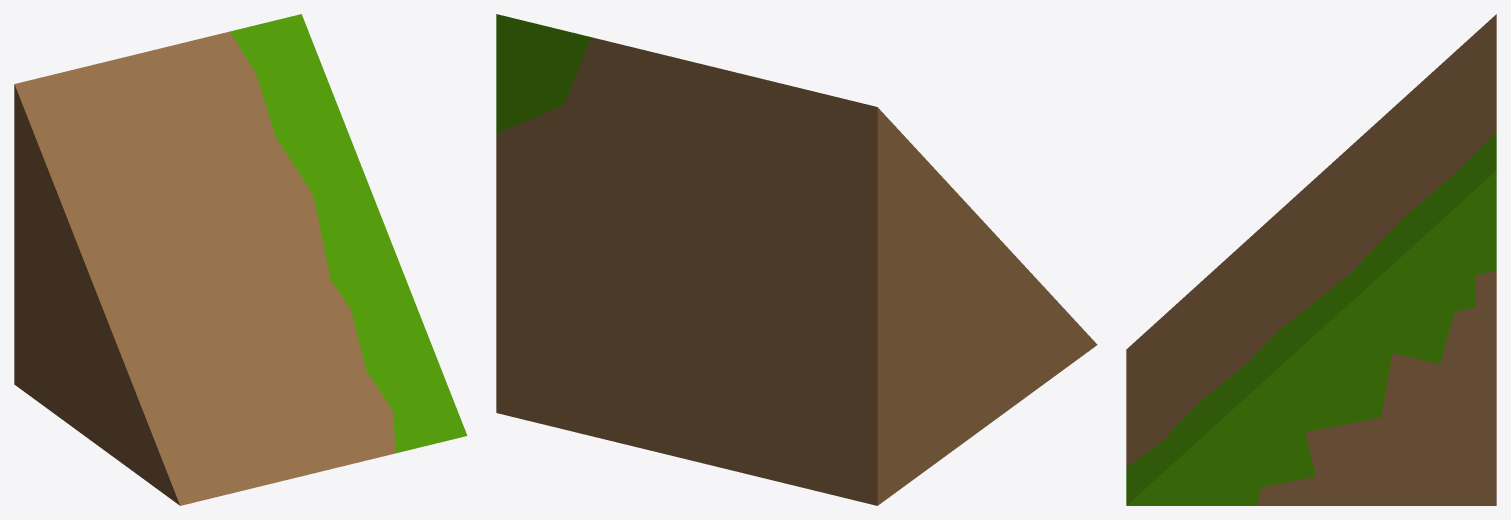
File: RPG_Tiles_Square_Covered_Path_Edge_Right_Ramp_01.FBX
The picture shows the model from 3 angles, left to right: view 1: azimuth 30°, elevation 25°; view 2: azimuth 150°, elevation 25°; view 3: azimuth 270°, elevation 25°; orthographic projection. The views are drawn at different scales.
Visible parts, largest first — view 1: RPG_Tiles_Square_Covered_Path_Edge_Right_Ramp_01; view 2: RPG_Tiles_Square_Covered_Path_Edge_Right_Ramp_01; view 3: RPG_Tiles_Square_Covered_Path_Edge_Right_Ramp_01.
Boxes of the visible parts, x1,y1,x2,y2 form: RPG_Tiles_Square_Covered_Path_Edge_Right_Ramp_01: (14, 14, 467, 505); RPG_Tiles_Square_Covered_Path_Edge_Right_Ramp_01: (496, 14, 1097, 505); RPG_Tiles_Square_Covered_Path_Edge_Right_Ramp_01: (1126, 14, 1496, 505).
Bounding box in the file's own units: 3000 × 3000 × 3000.
